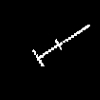double_crochet: (32, 25, 89, 65)
